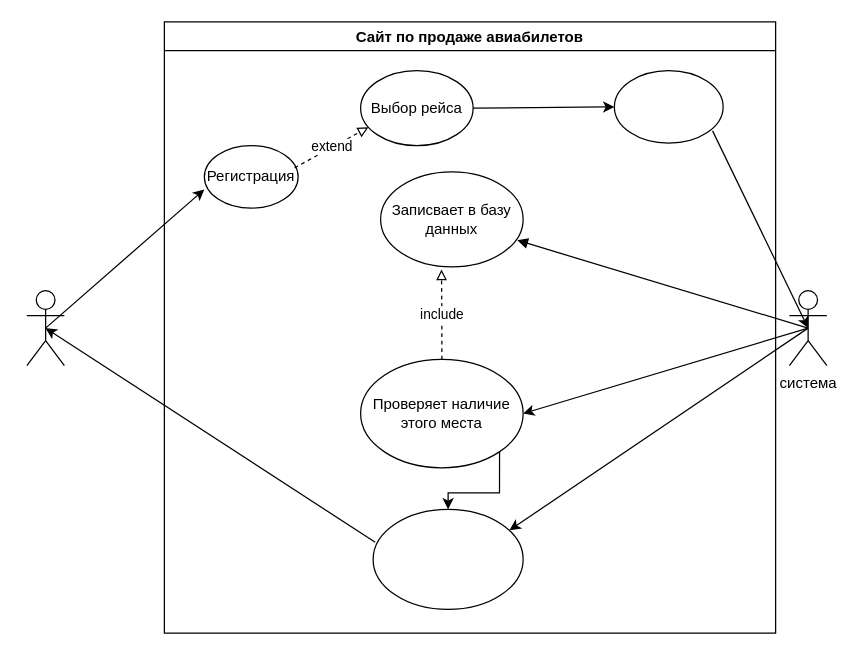
The diagram is 859 pixels wide and 655 high, and some of its shapes have lost their labels. The centre of each missing label's shape, as x and y in pixels:
"Выбор свободного места" belongs at [668,106].
"Выслает готовый билет" belongs at [447,558].
"клиент" belongs at [45,327].
